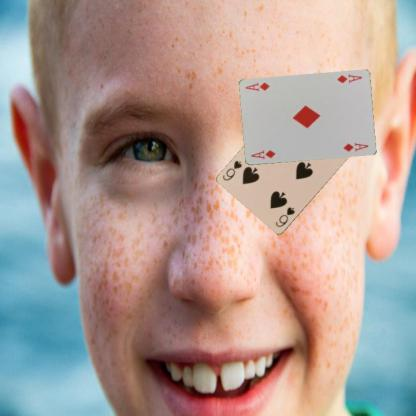6s: (273, 204, 296, 229)
Ad: (248, 147, 277, 161), (334, 72, 363, 84)
